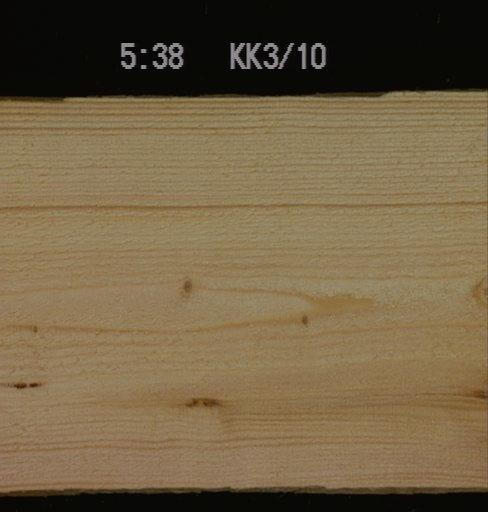small_knot: (182, 279, 192, 293), (299, 312, 308, 326), (30, 324, 37, 333)
